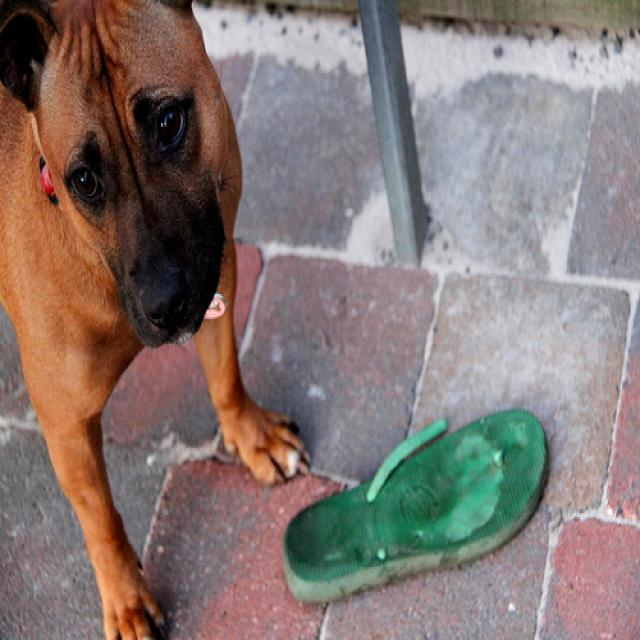dog-staffordshire_bull_terrier: (1, 2, 315, 636)
